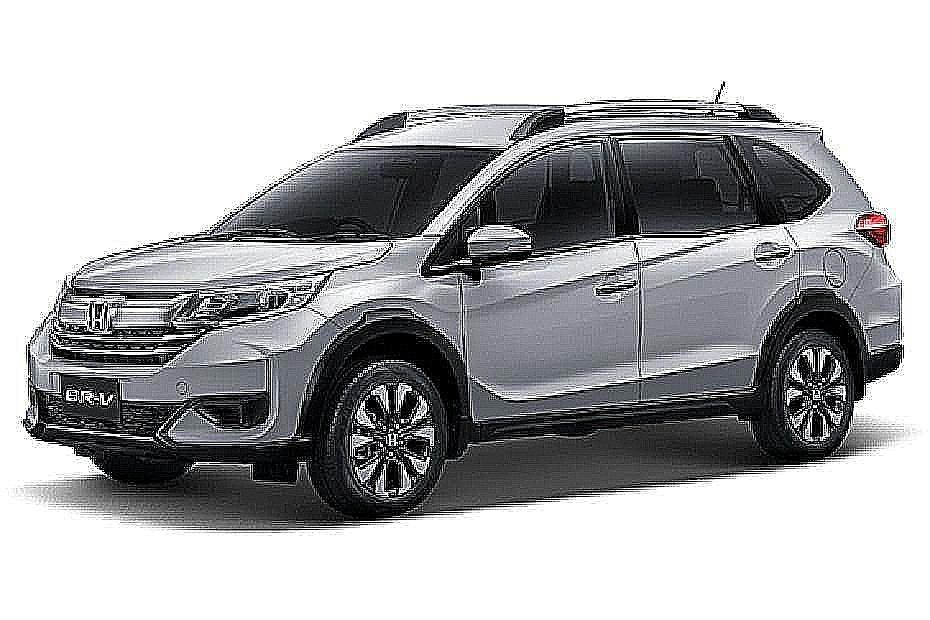Car hood: (56, 230, 397, 298)
Fender - -F-L-: (304, 231, 475, 439)
Fender - -R-L-: (784, 196, 879, 320)
Front bumper: (19, 309, 356, 465)
Headlight - -L-: (161, 268, 336, 340)
Passenger-s door - -F-L-: (468, 134, 645, 424)
Passenger-s door - -R-L-: (642, 131, 801, 411)
Rear bumper: (845, 240, 910, 404)
Rear light - -L-: (851, 200, 898, 256)
Side bumper - -L-: (455, 349, 771, 451)
Side mirror - -L-: (455, 216, 540, 285)
